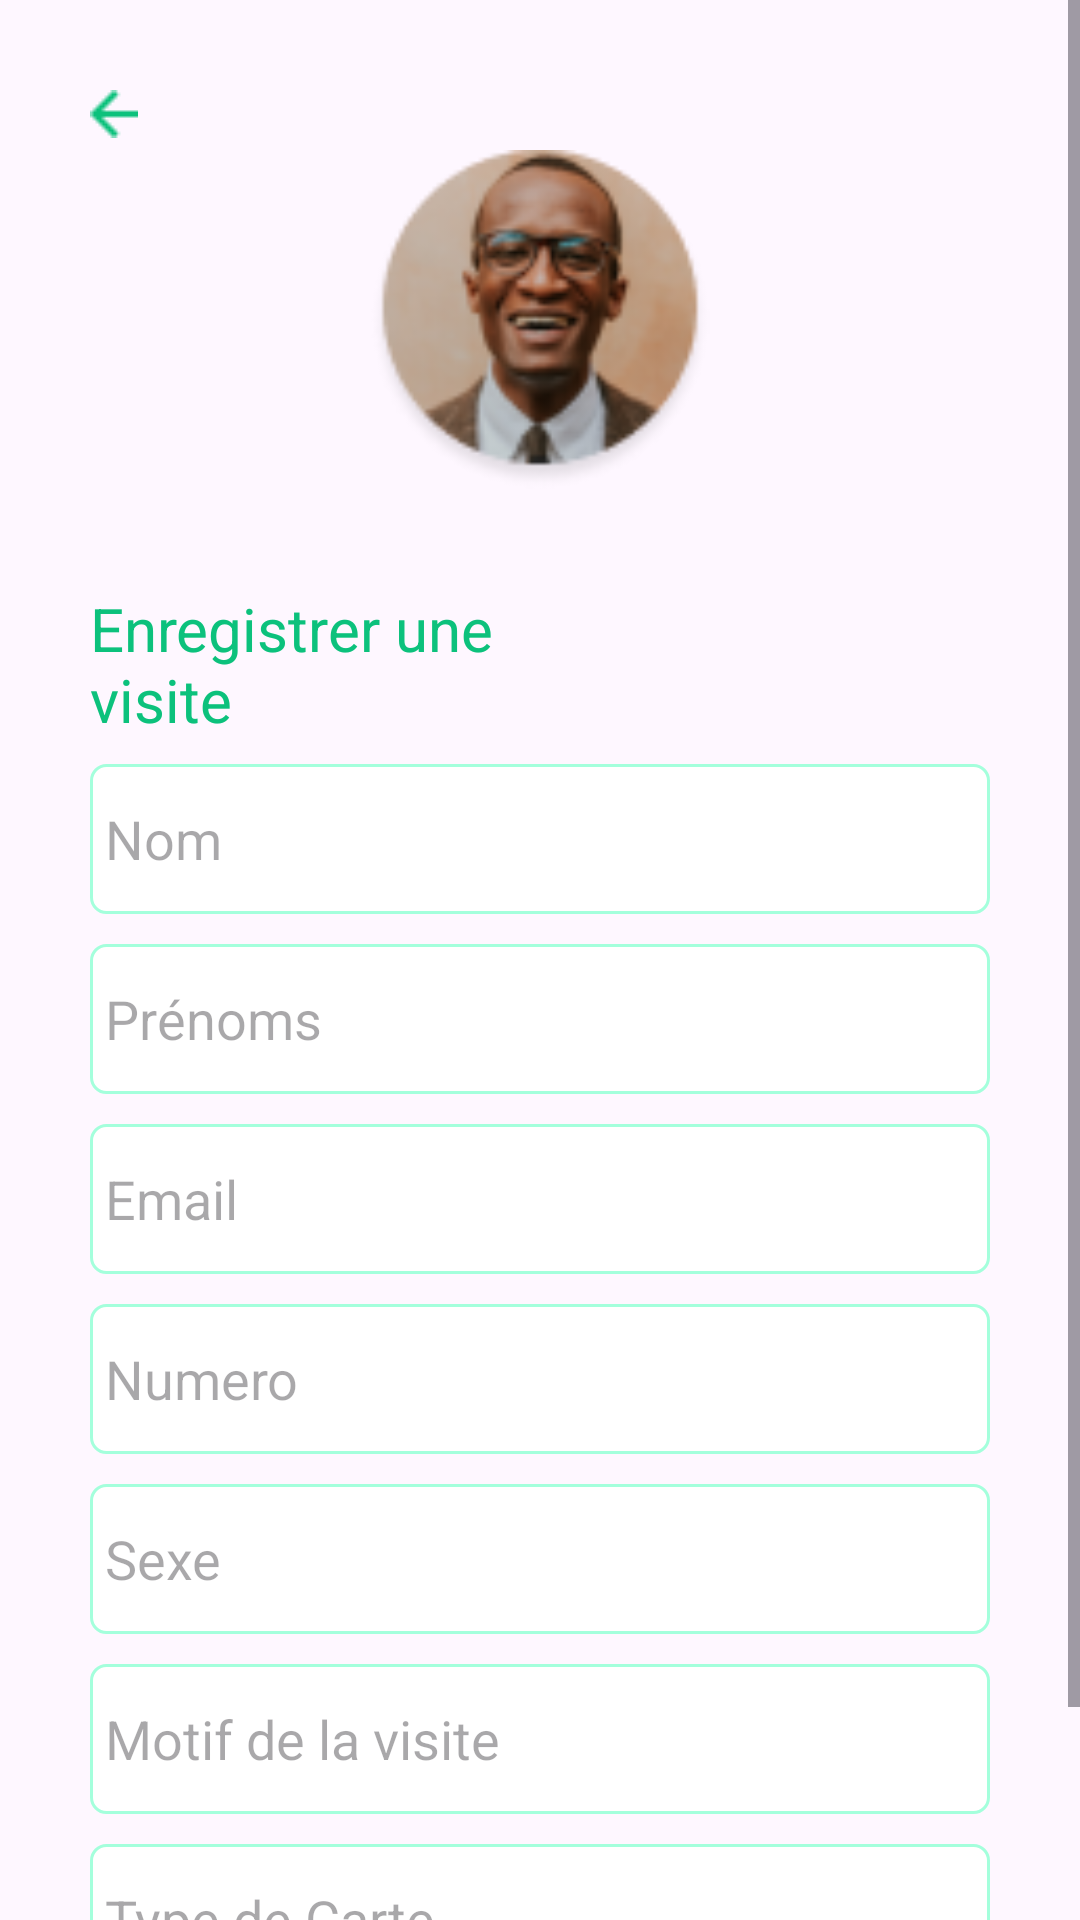

Icons on this 1080*1920 Android screen, each with the point to tap as point (x, y):
arrow: point (114, 114)
user profile: point (540, 310)
